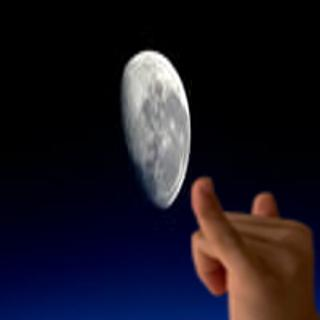HAVE: (172, 170, 320, 320)
